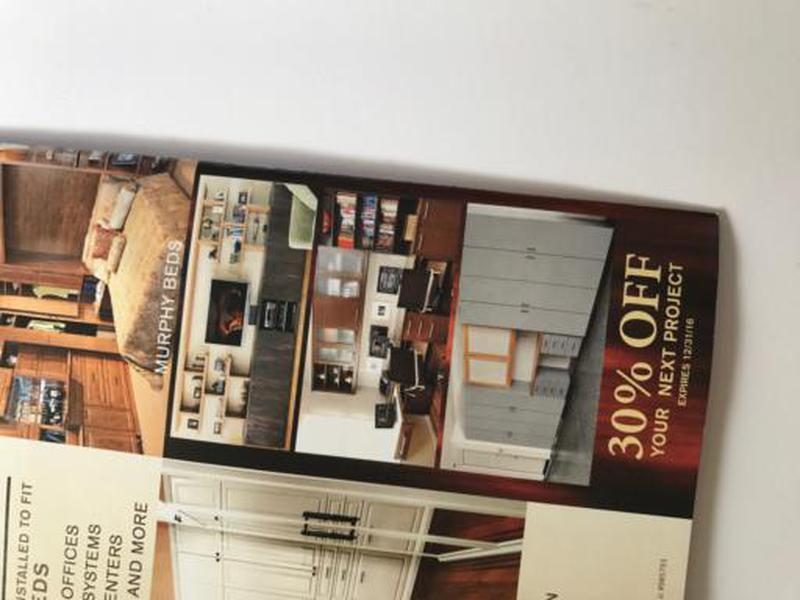paper: (1, 130, 727, 600)
